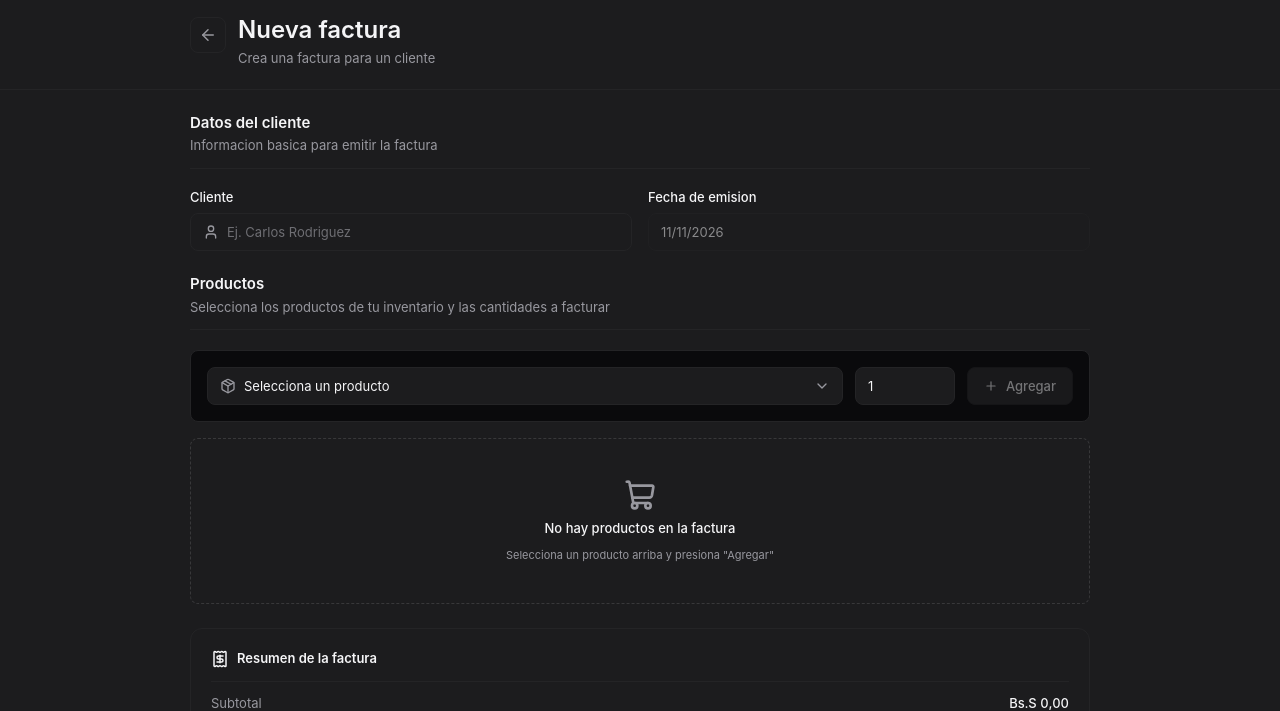
Test: BillingNew › enables submit button when client and items are valid
The width and height of the screenshot is (1280, 711).
In the field with placeholder "Ej. Carlos Rodriguez": [423, 232] box [227,214,619,250], type "Carlos Rodriguez"
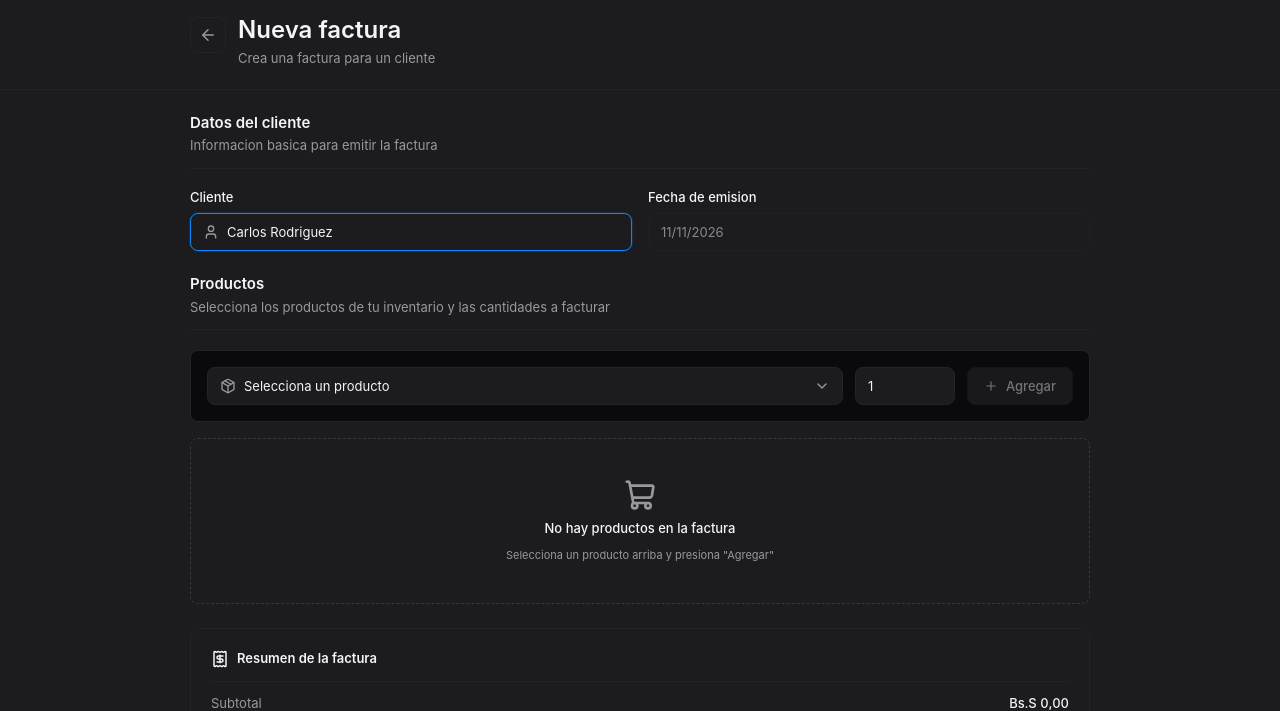
Select "Camisa azul talla M - Bs.S 25,00" in the dropdown: [537, 386] box [244,368,830,404]
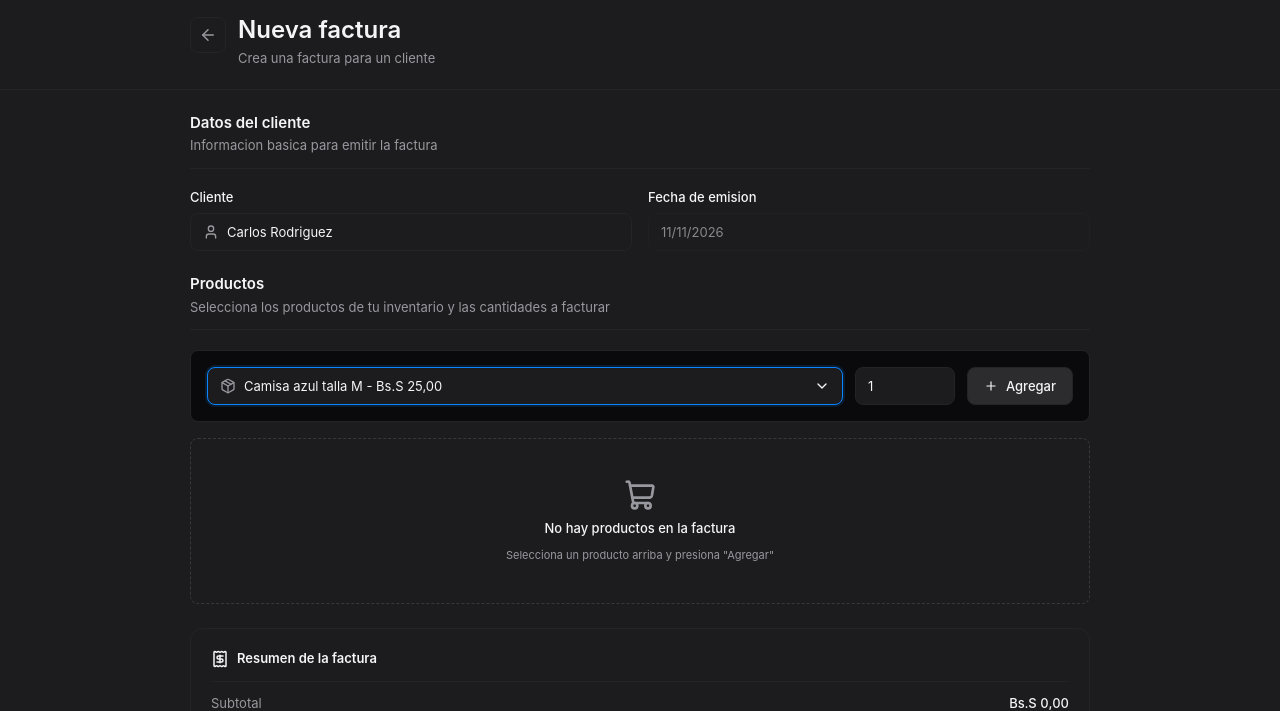
Click the button "Agregar": [1020, 386] box [967,367,1073,405]
(page scrolled)
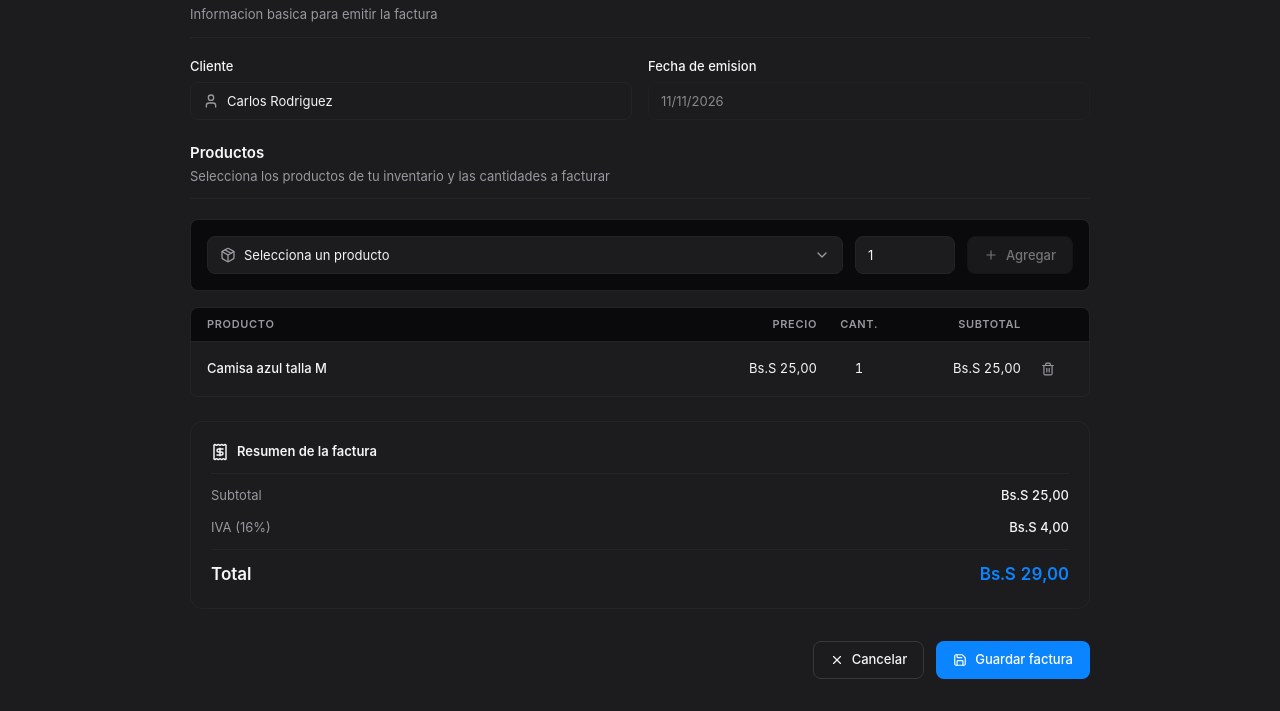
Now the button "Guardar factura" is enabled, box [936,641,1090,679]
